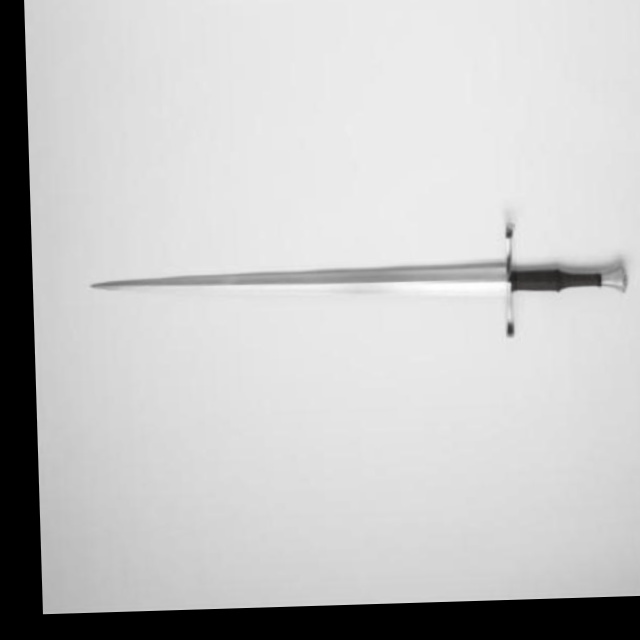Sharp-Object: (83, 240, 640, 318)
